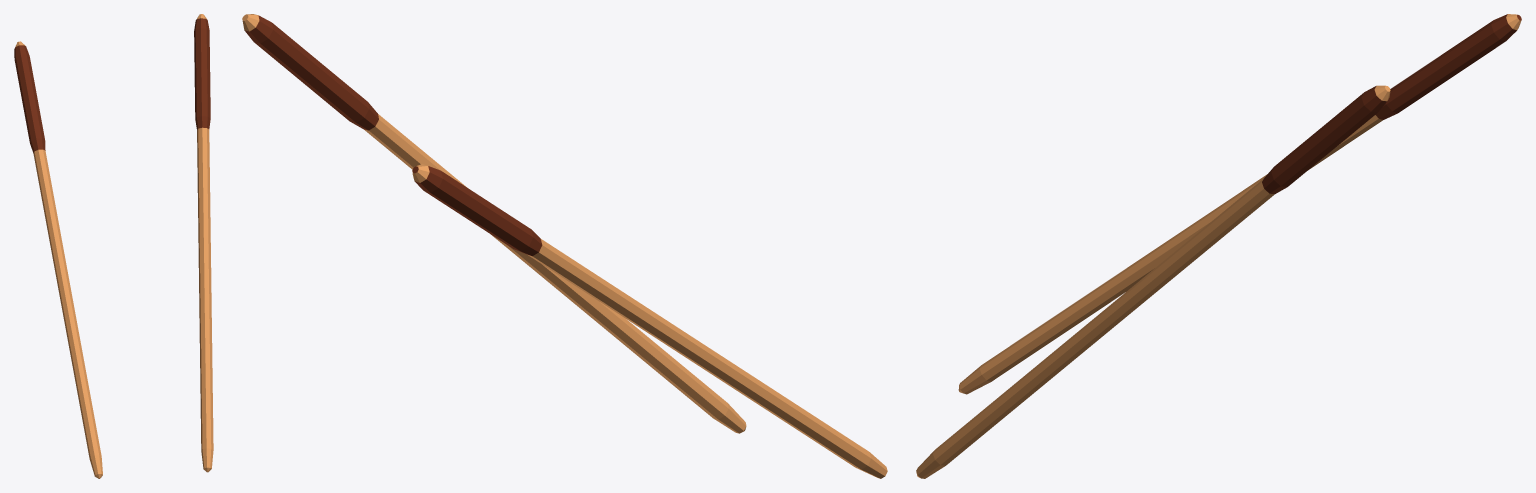
File: ChopSticks.fbx
The picture shows the model from 3 angles, left to right: view 1: azimuth 30°, elevation 25°; view 2: azimuth 150°, elevation 25°; view 3: azimuth 270°, elevation 25°; orthographic projection. The views are drawn at different scales.
Parts seen in each view (by area): view 1: Cylinder, Cylinder.001; view 2: Cylinder.001, Cylinder; view 3: Cylinder, Cylinder.001.
Part boxes in pixels (<box>): Cylinder: <box>194,14,213,472</box>; Cylinder.001: <box>14,41,102,478</box>; Cylinder.001: <box>412,164,887,478</box>; Cylinder: <box>242,14,746,433</box>; Cylinder: <box>916,85,1390,478</box>; Cylinder.001: <box>958,14,1521,394</box>.
Size of the model in its own units: 426 by 529 by 581.
